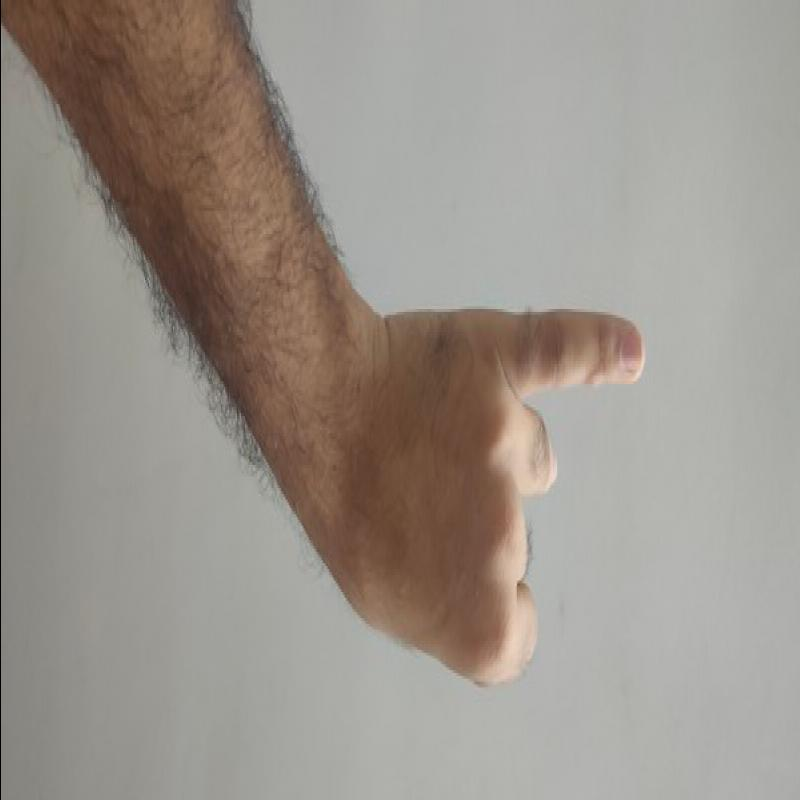Kartharee Mukham: (318, 283, 663, 705)
